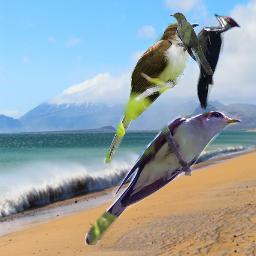Cuckoo: (85, 110, 242, 245), (103, 21, 200, 165), (170, 12, 214, 75)
Woodpecker: (176, 13, 241, 110)
